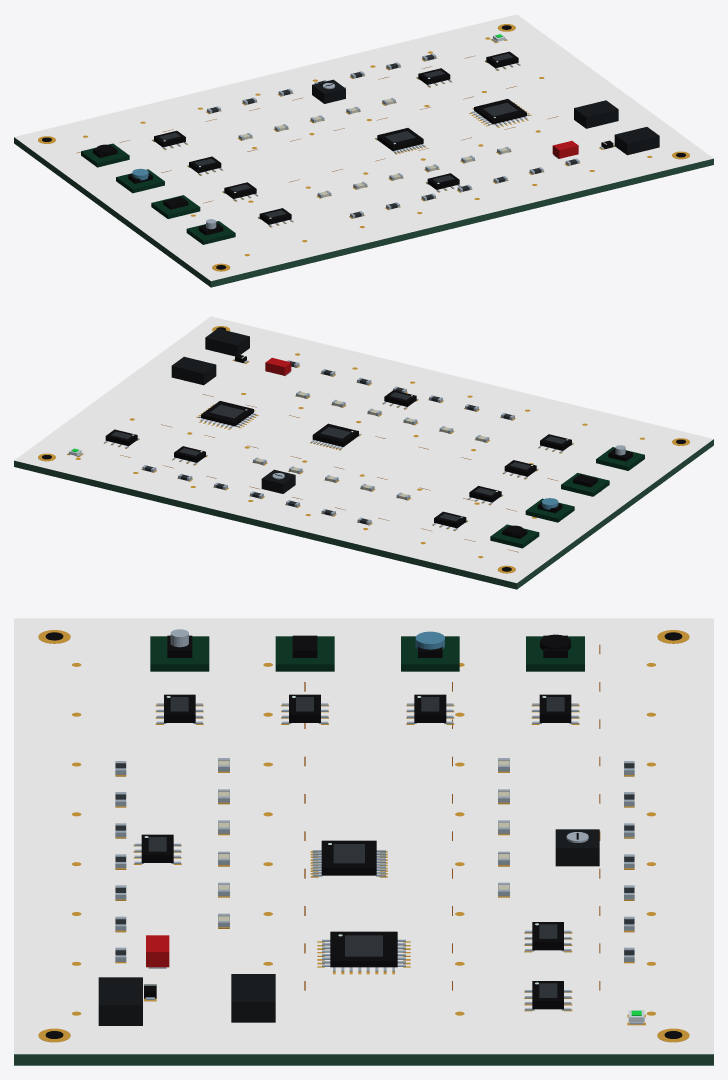
Rendered from L96_COMPLETE_REFERENCE_VISUAL_ONLY.fbx.
The picture shows the model from 3 angles, top to bottom: view 1: azimuth 30°, elevation 25°; view 2: azimuth 150°, elevation 25°; view 3: azimuth 270°, elevation 25°; orthographic projection. The views are drawn at different scales.
Parts seen in each view (by area): view 1: L96_SMX4_COMPLETE_REFERENCE_VISUAL_ONLY_259_PCB_FactoryScree, L96_SMX4_COMPLETE_REFERENCE_VISUAL_ONLY_000_FR4_Substrate_1p, L96_SMX4_COMPLETE_REFERENCE_VISUAL_ONLY_549_Connector_Housin, L96_SMX4_COMPLETE_REFERENCE_VISUAL_ONLY_554_Connector_Housin, L96_SMX4_COMPLETE_REFERENCE_VISUAL_ONLY_338_Molded_Encapsula, L96_SMX4_COMPLETE_REFERENCE_VISUAL_ONLY_559_Calibration_Trim, L96_SMX4_COMPLETE_REFERENCE_VISUAL_ONLY_527_Mini_Module_PCB, L96_SMX4_COMPLETE_REFERENCE_VISUAL_ONLY_520_Mini_Module_PCB, L96_SMX4_COMPLETE_REFERENCE_VISUAL_ONLY_542_Mini_Module_PCB, L96_SMX4_COMPLETE_REFERENCE_VISUAL_ONLY_260_Molded_Encapsula, L96_SMX4_COMPLETE_REFERENCE_VISUAL_ONLY_535_Mini_Module_PCB; view 2: L96_SMX4_COMPLETE_REFERENCE_VISUAL_ONLY_259_PCB_FactoryScree, L96_SMX4_COMPLETE_REFERENCE_VISUAL_ONLY_000_FR4_Substrate_1p, L96_SMX4_COMPLETE_REFERENCE_VISUAL_ONLY_554_Connector_Housin, L96_SMX4_COMPLETE_REFERENCE_VISUAL_ONLY_549_Connector_Housin, L96_SMX4_COMPLETE_REFERENCE_VISUAL_ONLY_338_Molded_Encapsula, L96_SMX4_COMPLETE_REFERENCE_VISUAL_ONLY_559_Calibration_Trim, L96_SMX4_COMPLETE_REFERENCE_VISUAL_ONLY_527_Mini_Module_PCB, L96_SMX4_COMPLETE_REFERENCE_VISUAL_ONLY_520_Mini_Module_PCB, L96_SMX4_COMPLETE_REFERENCE_VISUAL_ONLY_542_Mini_Module_PCB, L96_SMX4_COMPLETE_REFERENCE_VISUAL_ONLY_260_Molded_Encapsula, L96_SMX4_COMPLETE_REFERENCE_VISUAL_ONLY_535_Mini_Module_PCB; view 3: L96_SMX4_COMPLETE_REFERENCE_VISUAL_ONLY_259_PCB_FactoryScree, L96_SMX4_COMPLETE_REFERENCE_VISUAL_ONLY_000_FR4_Substrate_1p, L96_SMX4_COMPLETE_REFERENCE_VISUAL_ONLY_549_Connector_Housin, L96_SMX4_COMPLETE_REFERENCE_VISUAL_ONLY_554_Connector_Housin, L96_SMX4_COMPLETE_REFERENCE_VISUAL_ONLY_338_Molded_Encapsula, L96_SMX4_COMPLETE_REFERENCE_VISUAL_ONLY_520_Mini_Module_PCB, L96_SMX4_COMPLETE_REFERENCE_VISUAL_ONLY_527_Mini_Module_PCB, L96_SMX4_COMPLETE_REFERENCE_VISUAL_ONLY_535_Mini_Module_PCB, L96_SMX4_COMPLETE_REFERENCE_VISUAL_ONLY_542_Mini_Module_PCB, L96_SMX4_COMPLETE_REFERENCE_VISUAL_ONLY_559_Calibration_Trim, L96_SMX4_COMPLETE_REFERENCE_VISUAL_ONLY_260_Molded_Encapsula, L96_SMX4_COMPLETE_REFERENCE_VISUAL_ONLY_339_LaserMark_Panel (+6 smaller).
Boxes of the visible parts, x1,y1,x2,y2 form: L96_SMX4_COMPLETE_REFERENCE_VISUAL_ONLY_259_PCB_FactoryScree: [14, 14, 713, 281]; L96_SMX4_COMPLETE_REFERENCE_VISUAL_ONLY_000_FR4_Substrate_1p: [14, 137, 713, 287]; L96_SMX4_COMPLETE_REFERENCE_VISUAL_ONLY_549_Connector_Housin: [614, 127, 659, 155]; L96_SMX4_COMPLETE_REFERENCE_VISUAL_ONLY_554_Connector_Housin: [574, 100, 618, 128]; L96_SMX4_COMPLETE_REFERENCE_VISUAL_ONLY_338_Molded_Encapsula: [474, 99, 526, 124]; L96_SMX4_COMPLETE_REFERENCE_VISUAL_ONLY_559_Calibration_Trim: [312, 79, 345, 103]; L96_SMX4_COMPLETE_REFERENCE_VISUAL_ONLY_527_Mini_Module_PCB: [151, 195, 200, 218]; L96_SMX4_COMPLETE_REFERENCE_VISUAL_ONLY_520_Mini_Module_PCB: [186, 221, 235, 244]; L96_SMX4_COMPLETE_REFERENCE_VISUAL_ONLY_542_Mini_Module_PCB: [81, 143, 129, 167]; L96_SMX4_COMPLETE_REFERENCE_VISUAL_ONLY_260_Molded_Encapsula: [377, 128, 423, 150]; L96_SMX4_COMPLETE_REFERENCE_VISUAL_ONLY_535_Mini_Module_PCB: [116, 169, 164, 193]; L96_SMX4_COMPLETE_REFERENCE_VISUAL_ONLY_259_PCB_FactoryScree: [14, 316, 713, 583]; L96_SMX4_COMPLETE_REFERENCE_VISUAL_ONLY_000_FR4_Substrate_1p: [14, 439, 713, 589]; L96_SMX4_COMPLETE_REFERENCE_VISUAL_ONLY_554_Connector_Housin: [171, 356, 216, 385]; L96_SMX4_COMPLETE_REFERENCE_VISUAL_ONLY_549_Connector_Housin: [205, 328, 249, 356]; L96_SMX4_COMPLETE_REFERENCE_VISUAL_ONLY_338_Molded_Encapsula: [201, 401, 253, 426]; L96_SMX4_COMPLETE_REFERENCE_VISUAL_ONLY_559_Calibration_Trim: [261, 469, 295, 493]; L96_SMX4_COMPLETE_REFERENCE_VISUAL_ONLY_527_Mini_Module_PCB: [561, 473, 609, 496]; L96_SMX4_COMPLETE_REFERENCE_VISUAL_ONLY_520_Mini_Module_PCB: [596, 447, 644, 470]; L96_SMX4_COMPLETE_REFERENCE_VISUAL_ONLY_542_Mini_Module_PCB: [490, 524, 539, 548]; L96_SMX4_COMPLETE_REFERENCE_VISUAL_ONLY_260_Molded_Encapsula: [312, 423, 358, 446]; L96_SMX4_COMPLETE_REFERENCE_VISUAL_ONLY_535_Mini_Module_PCB: [525, 498, 574, 522]; L96_SMX4_COMPLETE_REFERENCE_VISUAL_ONLY_259_PCB_FactoryScree: [14, 618, 713, 1054]; L96_SMX4_COMPLETE_REFERENCE_VISUAL_ONLY_000_FR4_Substrate_1p: [14, 1054, 713, 1065]; L96_SMX4_COMPLETE_REFERENCE_VISUAL_ONLY_549_Connector_Housin: [98, 977, 142, 1025]; L96_SMX4_COMPLETE_REFERENCE_VISUAL_ONLY_554_Connector_Housin: [231, 974, 275, 1022]; L96_SMX4_COMPLETE_REFERENCE_VISUAL_ONLY_338_Molded_Encapsula: [330, 931, 397, 967]; L96_SMX4_COMPLETE_REFERENCE_VISUAL_ONLY_520_Mini_Module_PCB: [150, 636, 209, 671]; L96_SMX4_COMPLETE_REFERENCE_VISUAL_ONLY_527_Mini_Module_PCB: [275, 636, 334, 671]; L96_SMX4_COMPLETE_REFERENCE_VISUAL_ONLY_535_Mini_Module_PCB: [401, 636, 459, 671]; L96_SMX4_COMPLETE_REFERENCE_VISUAL_ONLY_542_Mini_Module_PCB: [526, 636, 584, 671]; L96_SMX4_COMPLETE_REFERENCE_VISUAL_ONLY_559_Calibration_Trim: [555, 829, 599, 866]; L96_SMX4_COMPLETE_REFERENCE_VISUAL_ONLY_260_Molded_Encapsula: [321, 840, 376, 875]; L96_SMX4_COMPLETE_REFERENCE_VISUAL_ONLY_339_LaserMark_Panel: [345, 935, 382, 956].
Size of the model in its own units: 0.14 by 0.00554 by 0.095.
